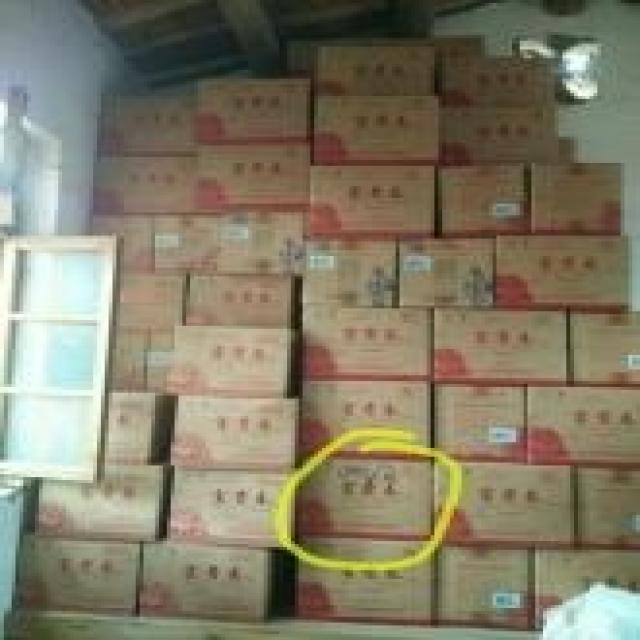box: (434, 463, 578, 550), (295, 538, 438, 625), (140, 541, 279, 623), (299, 457, 434, 541), (35, 465, 175, 544), (16, 535, 144, 617), (167, 471, 299, 550), (434, 308, 570, 384), (303, 381, 431, 460), (306, 163, 438, 239), (496, 236, 628, 311), (303, 305, 431, 381), (175, 396, 299, 471), (163, 326, 295, 396), (528, 387, 640, 468), (314, 93, 442, 163), (535, 547, 640, 628), (194, 143, 310, 212), (438, 550, 531, 631), (198, 79, 310, 143), (434, 384, 524, 463), (400, 236, 496, 308), (438, 166, 531, 236), (97, 90, 198, 154), (442, 52, 555, 108), (306, 239, 400, 305), (442, 111, 559, 163), (535, 163, 621, 233), (93, 154, 194, 212), (314, 47, 438, 93), (217, 212, 306, 276), (566, 311, 640, 387), (186, 276, 295, 326), (574, 468, 640, 550), (105, 393, 175, 465), (85, 215, 155, 273), (116, 276, 186, 332), (109, 332, 175, 390), (159, 212, 221, 273)
